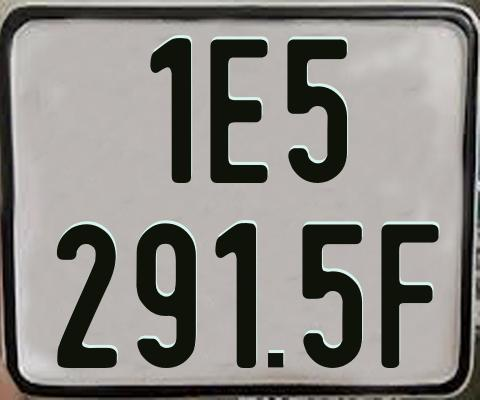1: (212, 223, 259, 369), (148, 36, 190, 181)
2: (54, 223, 114, 370)
5: (302, 224, 366, 369), (284, 38, 345, 188)
9: (135, 220, 198, 370)
E: (207, 36, 267, 181)
F: (378, 221, 438, 369)
